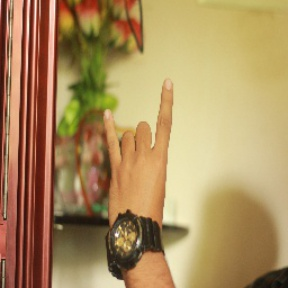V: (97, 74, 180, 230)
